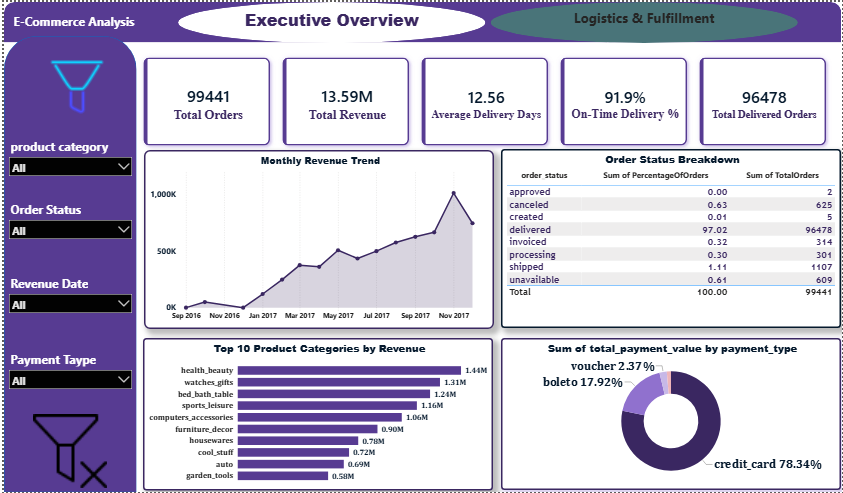

The page's visual inventory and layout, read from the dashboard file:
{"tool":"powerbi","page":{"name":"Executive Overview","canvas":[1675,980],"ordinal":0},"visuals":[{"type":"cardVisual","fields":{"Data":["_Measures.Total Orders","_Measures.Total Revenue","_Measures.Average Delivery Days","_Measures.On-Time Delivery %","_Measures.Total Delivered Orders"]},"box":[250,82,1426,234],"z":0},{"type":"shape","box":[0,0,1674.4,81],"z":1000},{"type":"pageNavigator","box":[347.8,0,1240.2,82.8],"z":2000},{"type":"textbox","box":[14.7,16.6,303.6,51.5],"z":3000},{"type":"shape","box":[0,67.5,265,912.5],"z":4000},{"type":"lineChart","title":"Monthly Revenue Trend","fields":{"Y":["_Measures.Monthly Revenue"],"Category":["vw_MonthlySales.Month Start.Variation.Date Hierarchy.Year","vw_MonthlySales.Month Start.Variation.Date Hierarchy.Quarter","vw_MonthlySales.Month Start.Variation.Date Hierarchy.Month","vw_MonthlySales.Month Start.Variation.Date Hierarchy.Day"]},"box":[280,295,700,357.5],"z":5000},{"type":"clusteredBarChart","title":"Top 10 Product Categories by Revenue","fields":{"Category":["vw_Product_Category_Performance.product_category_name_english"],"Y":["Sum(vw_Product_Category_Performance.total_revenue)"]},"box":[278,672,700,305],"z":6000},{"type":"tableEx","title":"Order Status Breakdown","fields":{"Values":["vw_OrderStatusBreakdown.order_status","Sum(vw_OrderStatusBreakdown.PercentageOfOrders)","Sum(vw_OrderStatusBreakdown.TotalOrders)"]},"box":[994,294,680,358],"z":7000},{"type":"donutChart","fields":{"Category":["vw_Payment_Type_Performance.payment_type"],"Y":["Sum(vw_Payment_Type_Performance.total_payment_value)"]},"box":[994,672,680,304],"z":8000},{"type":"slicer","fields":{"Values":["vw_Product_Category_Performance.product_category_name_english"]},"box":[0,266,266,98],"z":8001},{"type":"slicer","fields":{"Values":["vw_OrderStatusBreakdown.order_status"]},"box":[0,392,266,98],"z":8002},{"type":"image","box":[58,96,176,146],"z":8003},{"type":"slicer","fields":{"Values":["vw_MonthlySales.SalesYear","vw_MonthlySales.SalesMonth"]},"box":[0,540,266,98],"z":8004},{"type":"slicer","fields":{"Values":["vw_Payment_Type_Performance.payment_type"]},"box":[0,692,266,98],"z":8005},{"type":"image","box":[22,824,220,148],"z":8006}]}

Visuals, with their boxes in screenshot pixels (x1, y1, x2, y2), scaled from the page's 1675x980 canvas onto the 843x493 screenshot:
cardVisual - _Measures.Total Orders x _Measures.Total Revenue: BBox(126, 41, 842, 159)
shape: BBox(0, 0, 842, 41)
pageNavigator: BBox(175, 0, 799, 42)
textbox: BBox(7, 8, 160, 34)
shape: BBox(0, 34, 133, 492)
"Monthly Revenue Trend" lineChart: BBox(141, 148, 493, 328)
"Top 10 Product Categories by Revenue" clusteredBarChart: BBox(140, 338, 492, 491)
"Order Status Breakdown" tableEx: BBox(500, 148, 842, 328)
donutChart - vw_Payment_Type_Performance.payment_type x Sum(vw_Payment_Type_Performance.total_payment_value): BBox(500, 338, 842, 491)
slicer - vw_Product_Category_Performance.product_category_name_english: BBox(0, 134, 134, 183)
slicer - vw_OrderStatusBreakdown.order_status: BBox(0, 197, 134, 247)
image: BBox(29, 48, 118, 122)
slicer - vw_MonthlySales.SalesYear x vw_MonthlySales.SalesMonth: BBox(0, 272, 134, 321)
slicer - vw_Payment_Type_Performance.payment_type: BBox(0, 348, 134, 397)
image: BBox(11, 415, 122, 489)
